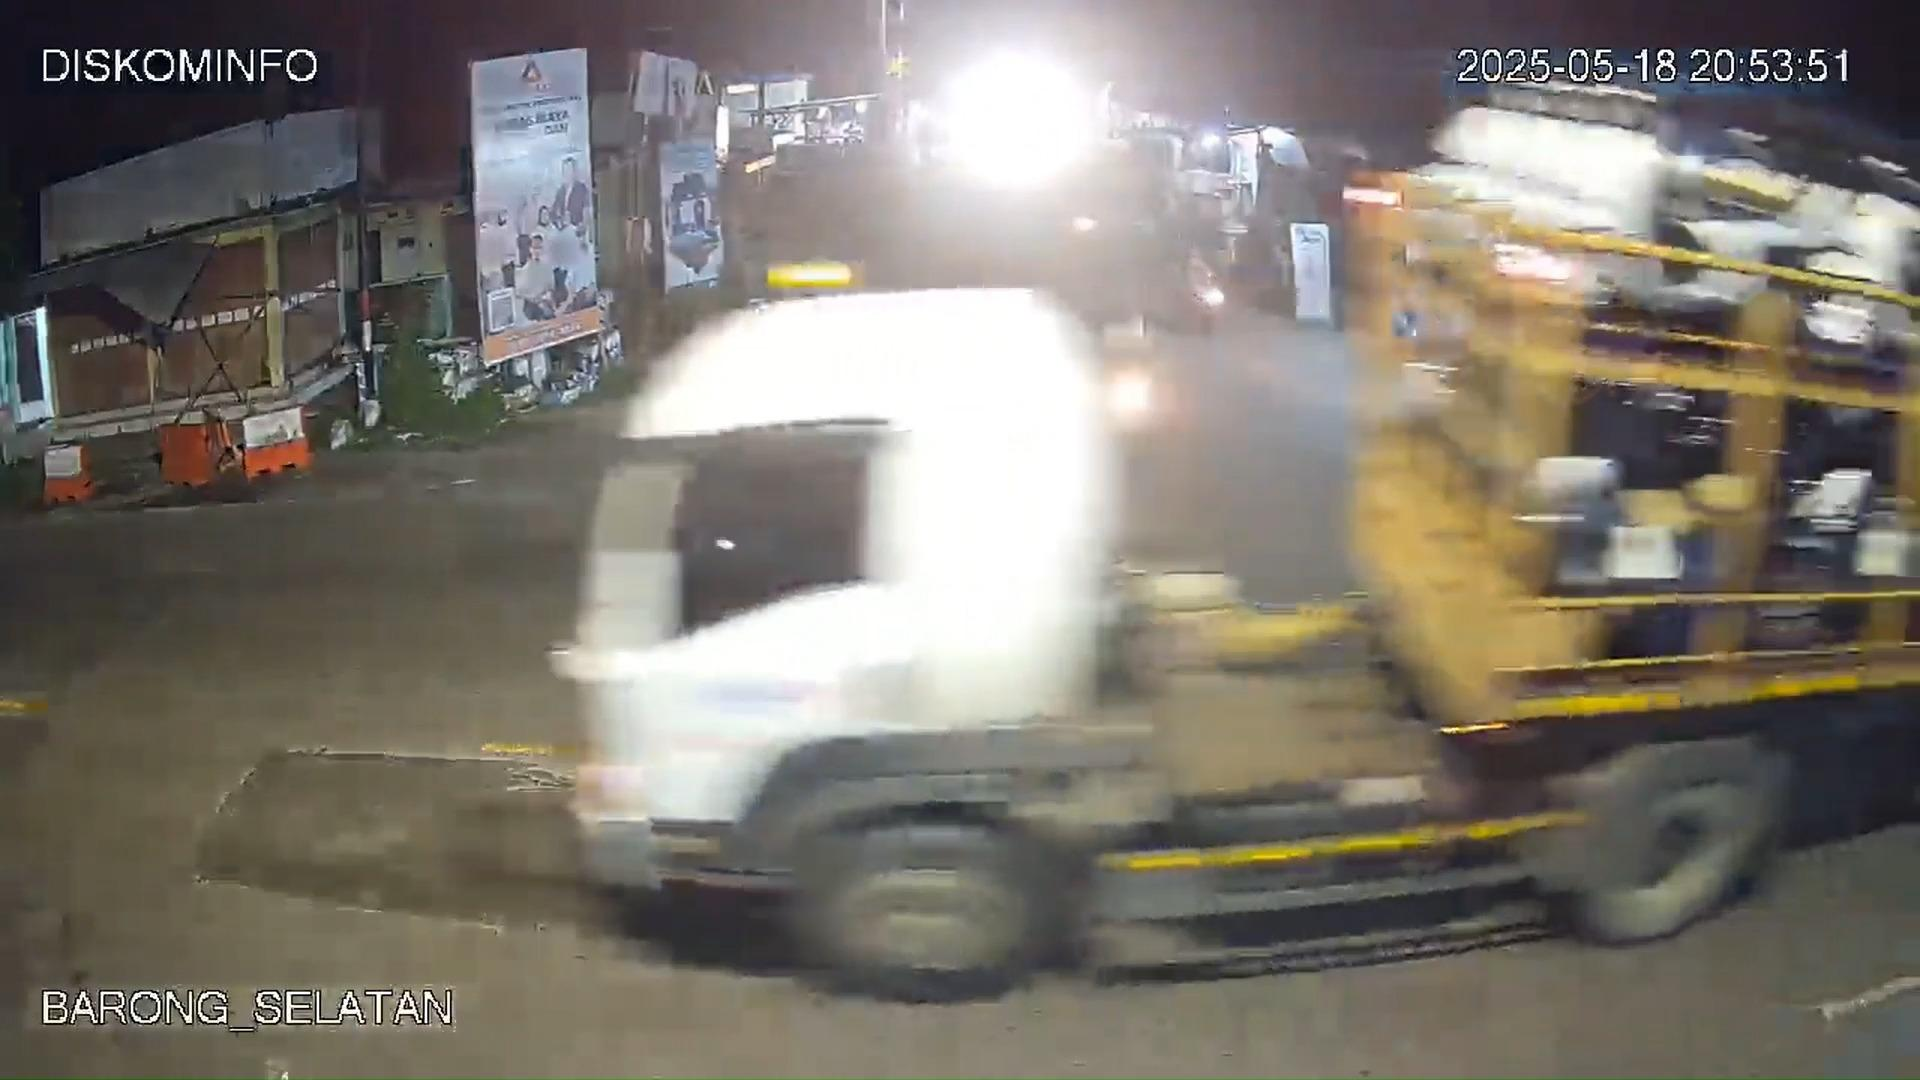Truck: (537, 91, 1883, 1004)
